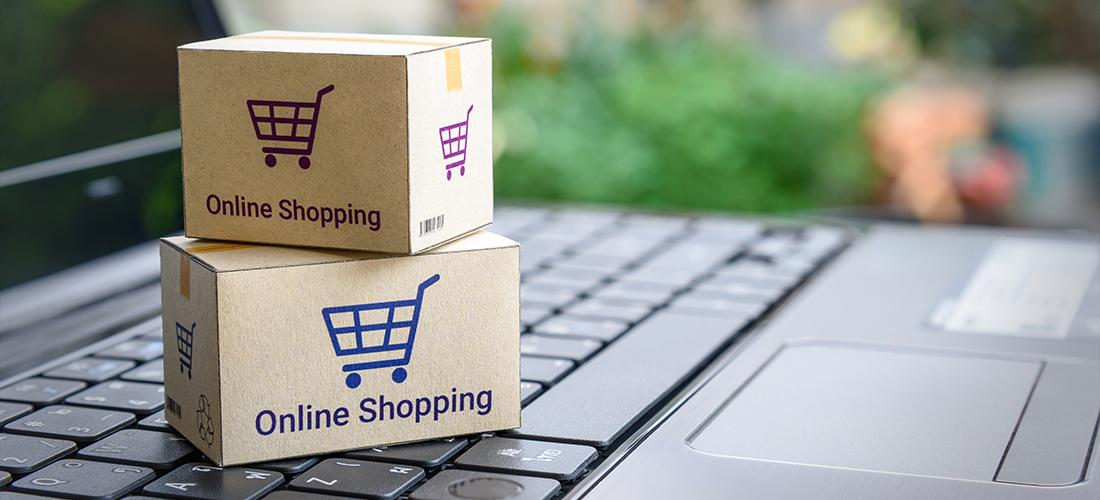box: (159, 230, 523, 468)
